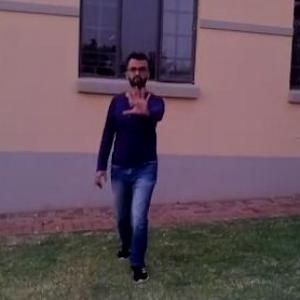follow_hand: (120, 80, 156, 122)
